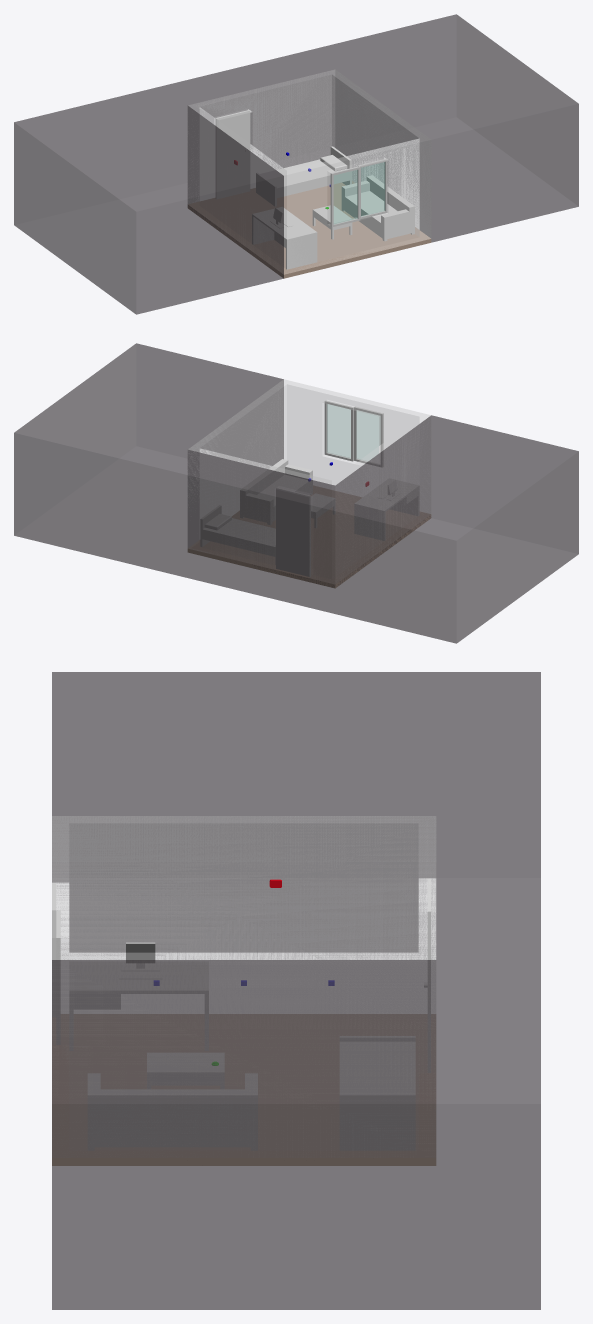
The model's file is modelParan-1.glb.
The picture shows the model from 3 angles, top to bottom: view 1: azimuth 30°, elevation 25°; view 2: azimuth 150°, elevation 25°; view 3: azimuth 270°, elevation 25°; orthographic projection. The views are drawn at different scales.
Parts seen in each view (by area): view 1: Context, Wall, Floor, Sofa, Mesh3, Mesh7, Desk, Mesh14, Mesh16, Mesh15, Tdesk; view 2: Context, Wall, Floor, Mesh3, Sofa, Desk, Mesh7, Mesh16, Mesh14, Mesh15, Tdesk; view 3: Context, Wall, Floor, Sofa, Mesh7, Desk, Tdesk, Mesh15.
Boxes of the visible parts, bbox=[...] form: Context: bbox=[14, 14, 578, 314]; Wall: bbox=[188, 70, 430, 274]; Floor: bbox=[188, 181, 431, 278]; Sofa: bbox=[341, 175, 414, 241]; Mesh3: bbox=[215, 110, 250, 198]; Mesh7: bbox=[256, 146, 351, 205]; Desk: bbox=[252, 207, 317, 269]; Mesh14: bbox=[334, 170, 357, 224]; Mesh16: bbox=[361, 162, 384, 216]; Mesh15: bbox=[330, 158, 387, 227]; Tdesk: bbox=[312, 205, 352, 239]; Context: bbox=[14, 343, 578, 643]; Wall: bbox=[188, 379, 430, 576]; Floor: bbox=[187, 486, 431, 588]; Mesh3: bbox=[276, 488, 310, 576]; Sofa: bbox=[240, 459, 312, 524]; Desk: bbox=[354, 478, 419, 540]; Mesh7: bbox=[200, 505, 275, 564]; Mesh16: bbox=[327, 404, 350, 457]; Mesh14: bbox=[356, 410, 380, 460]; Mesh15: bbox=[324, 400, 383, 466]; Tdesk: bbox=[311, 494, 335, 527]; Context: bbox=[52, 672, 540, 1309]; Wall: bbox=[52, 816, 436, 1148]; Floor: bbox=[52, 1014, 436, 1165]; Sofa: bbox=[88, 1073, 257, 1150]; Mesh7: bbox=[340, 1036, 415, 1150]; Desk: bbox=[69, 961, 208, 1050]; Tdesk: bbox=[147, 1053, 224, 1088]; Mesh15: bbox=[52, 882, 60, 1044].
Size of the model in its own units: 0.117 by 0.026 by 0.056.
